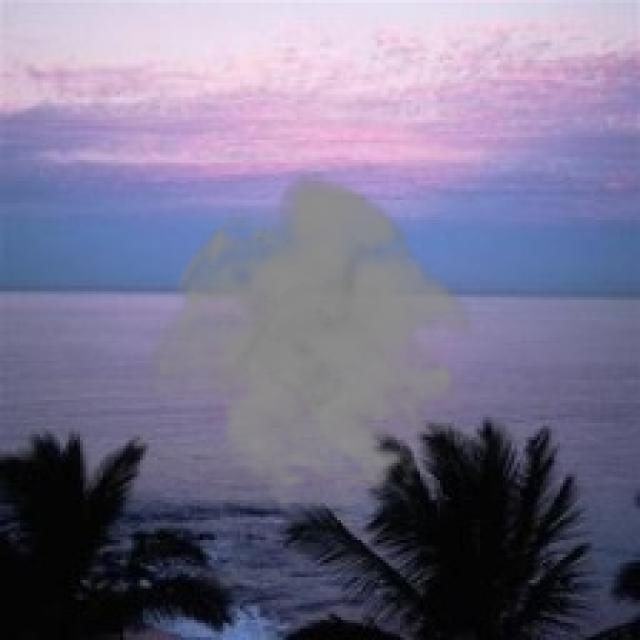smoke: (140, 168, 489, 512)
